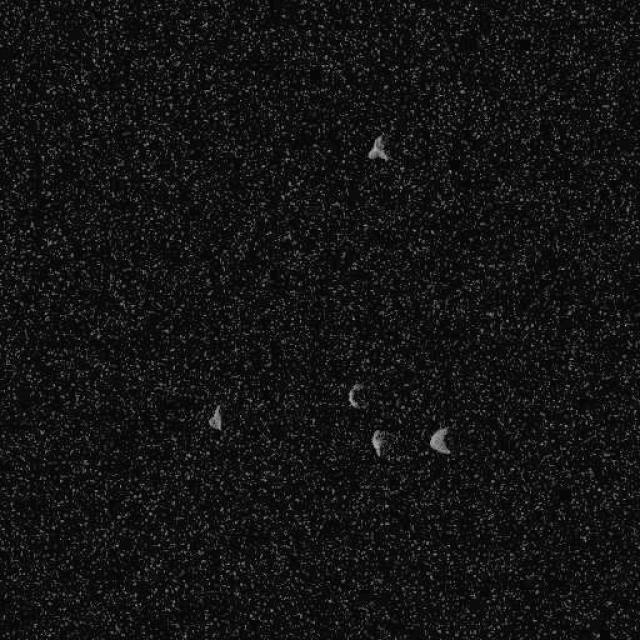D2: (428, 425, 452, 455), (366, 134, 392, 161), (346, 381, 366, 410), (206, 402, 224, 432), (370, 428, 386, 458)
